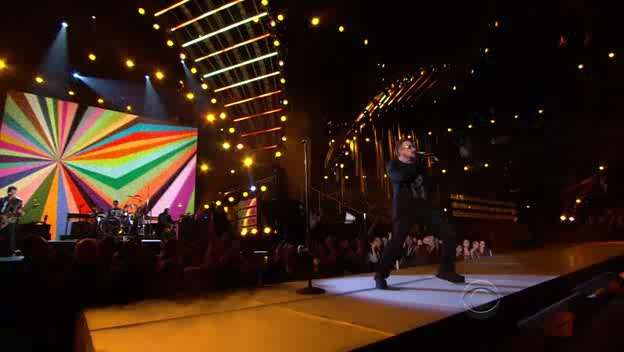person: (386, 140, 444, 240), (383, 140, 441, 240), (389, 140, 447, 240), (386, 137, 444, 237), (386, 143, 444, 243)
target_negative: (356, 220, 483, 334), (486, 39, 557, 78), (560, 304, 618, 323), (465, 160, 486, 211), (475, 335, 514, 350), (382, 302, 384, 309)
